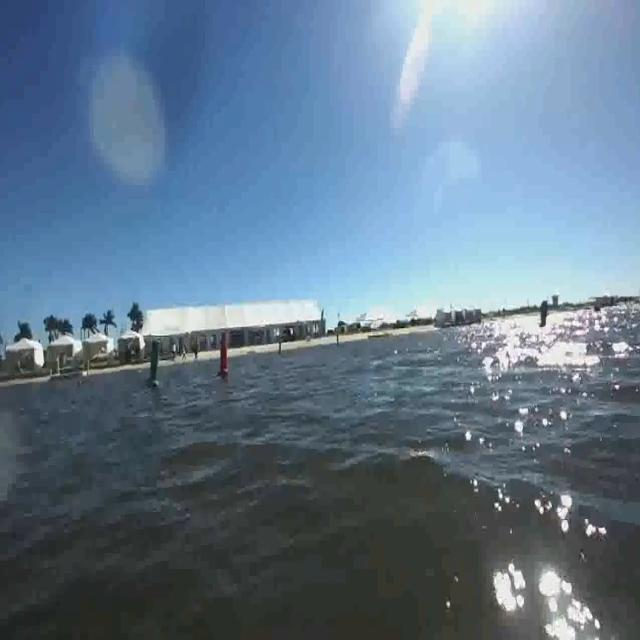green-column-buoy: (145, 338, 162, 387)
red-column-buoy: (217, 334, 230, 376)
